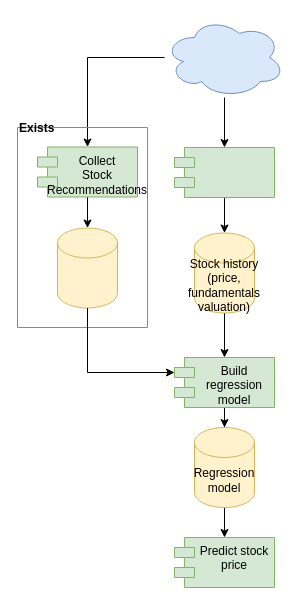
This 302x605 diagram has some shape labels left out. The shapes that lost their labels are listed below. From the top down, each one's centre as x and y in pixels, then its label:
(224,57): Web
(224,172): Collect historical data
(87,267): Stock recommendation history
